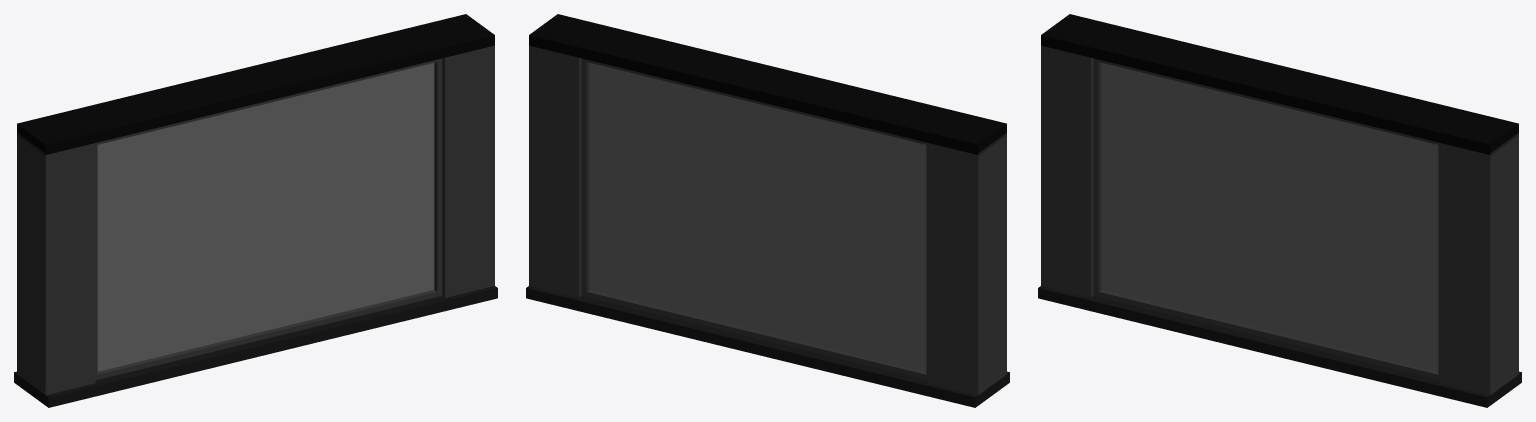
File: Wall-Stone-Model-03.fbx
3 renders of one model, left to right at view 1: azimuth 30°, elevation 25°; view 2: azimuth 150°, elevation 25°; view 3: azimuth 330°, elevation 25°, orthographic.
Parts seen in each view (by area): view 1: Wall-Stone-Model-03; view 2: Wall-Stone-Model-03; view 3: Wall-Stone-Model-03.
Part boxes in pixels (left/top/right/bottom): Wall-Stone-Model-03: left=14, top=14, right=497, bottom=407; Wall-Stone-Model-03: left=526, top=14, right=1009, bottom=407; Wall-Stone-Model-03: left=1038, top=14, right=1521, bottom=407.
Size of the model in its own units: 90 by 50 by 12.
1 material, 1 textured.
